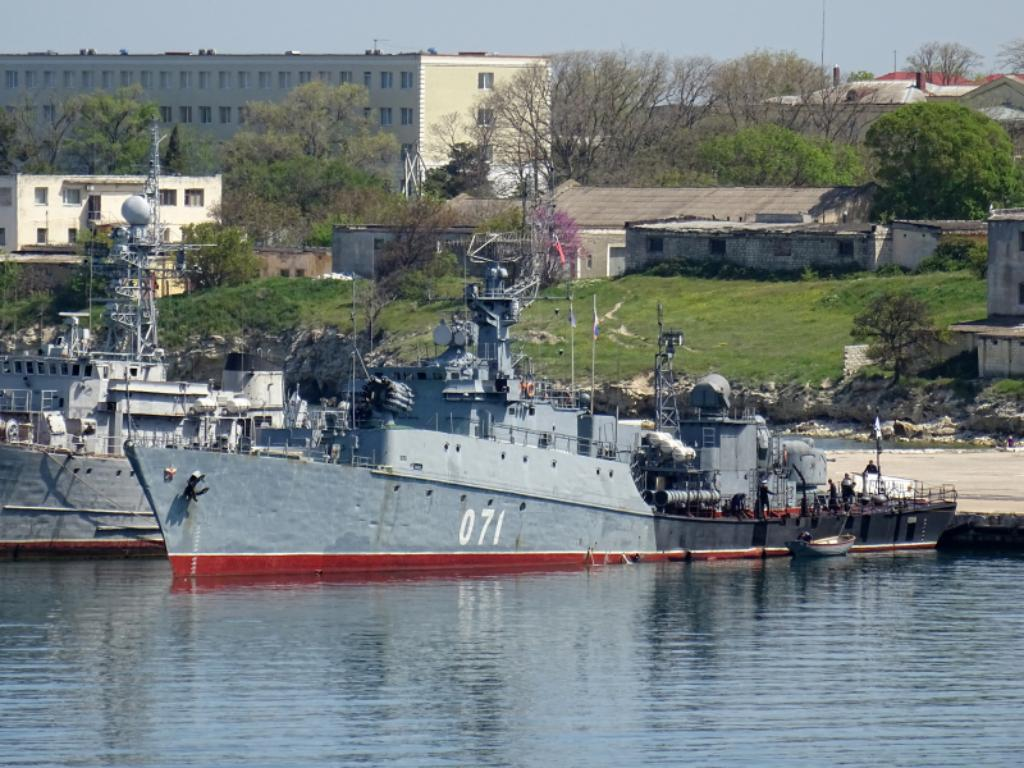Warship: (119, 176, 959, 576), (0, 122, 416, 566)
